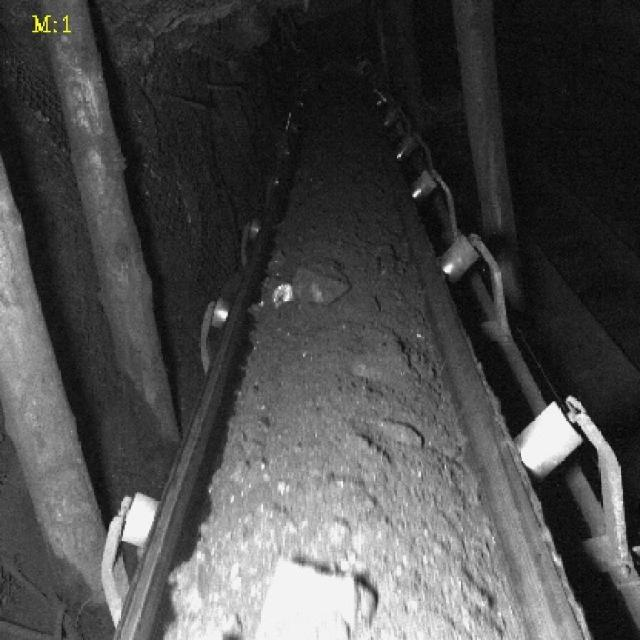large_sized_coal: (257, 563, 378, 640), (289, 260, 349, 306), (272, 280, 292, 311)
